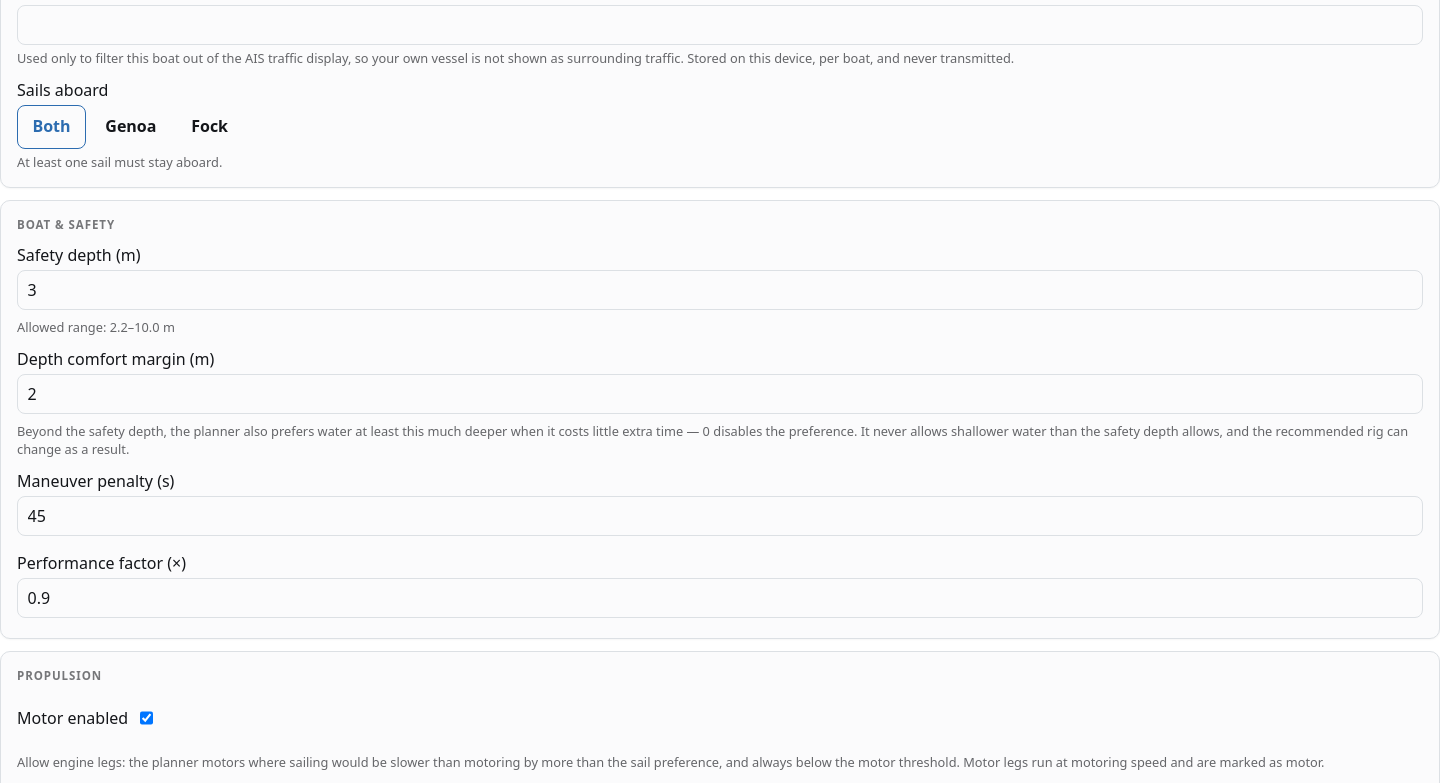
Scenario: SettingsPanel (#299 Boat tab) › Boat & safety group › commits the depth comfort margin on blur and clamps to its 0-5 bounds
(page scrolled)
Replace the text in the number field labelled "Depth comfort margin (m)" with "1.5" at (720, 394), box [17,374,1423,414]
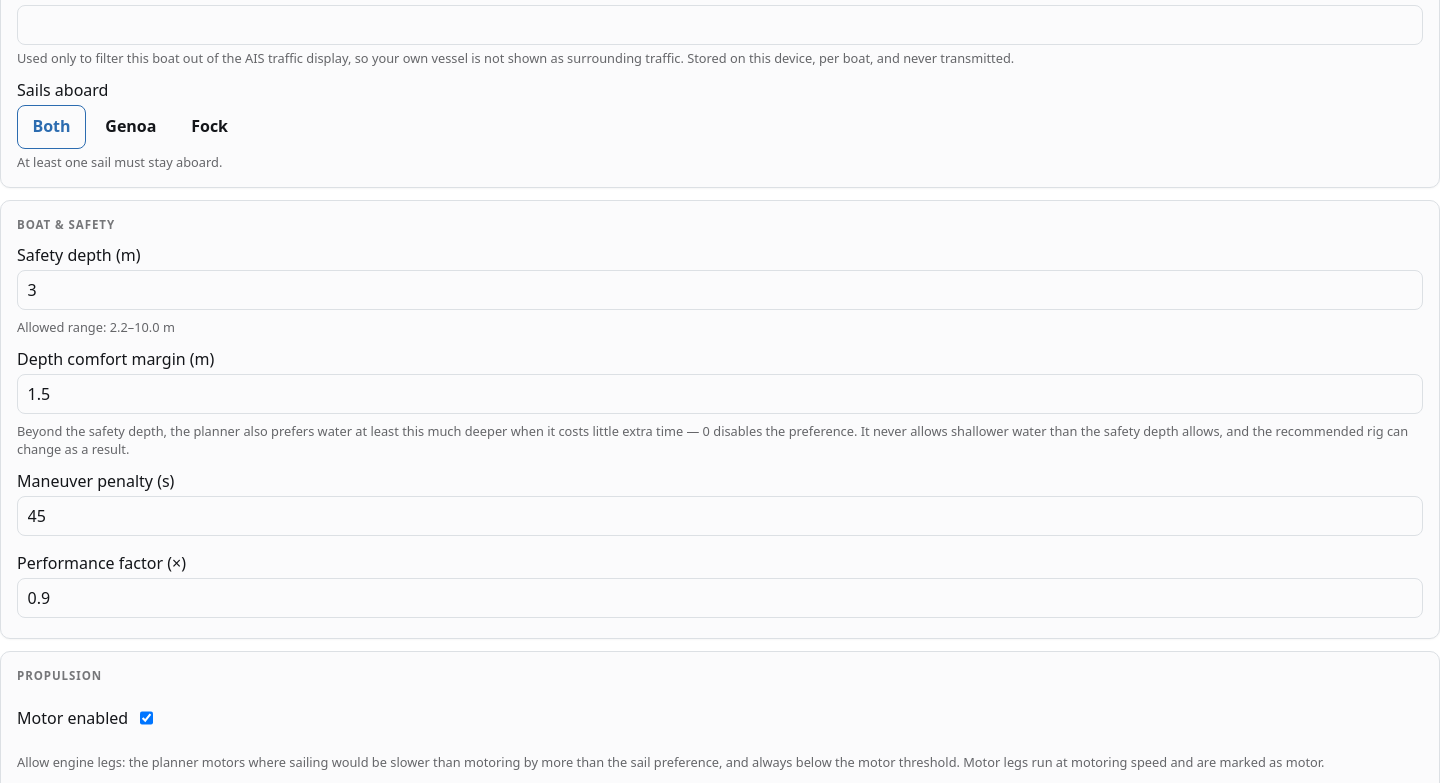
Replace the text in the number field labelled "Depth comfort margin (m)" with "99" at (720, 394), box [17,374,1423,414]
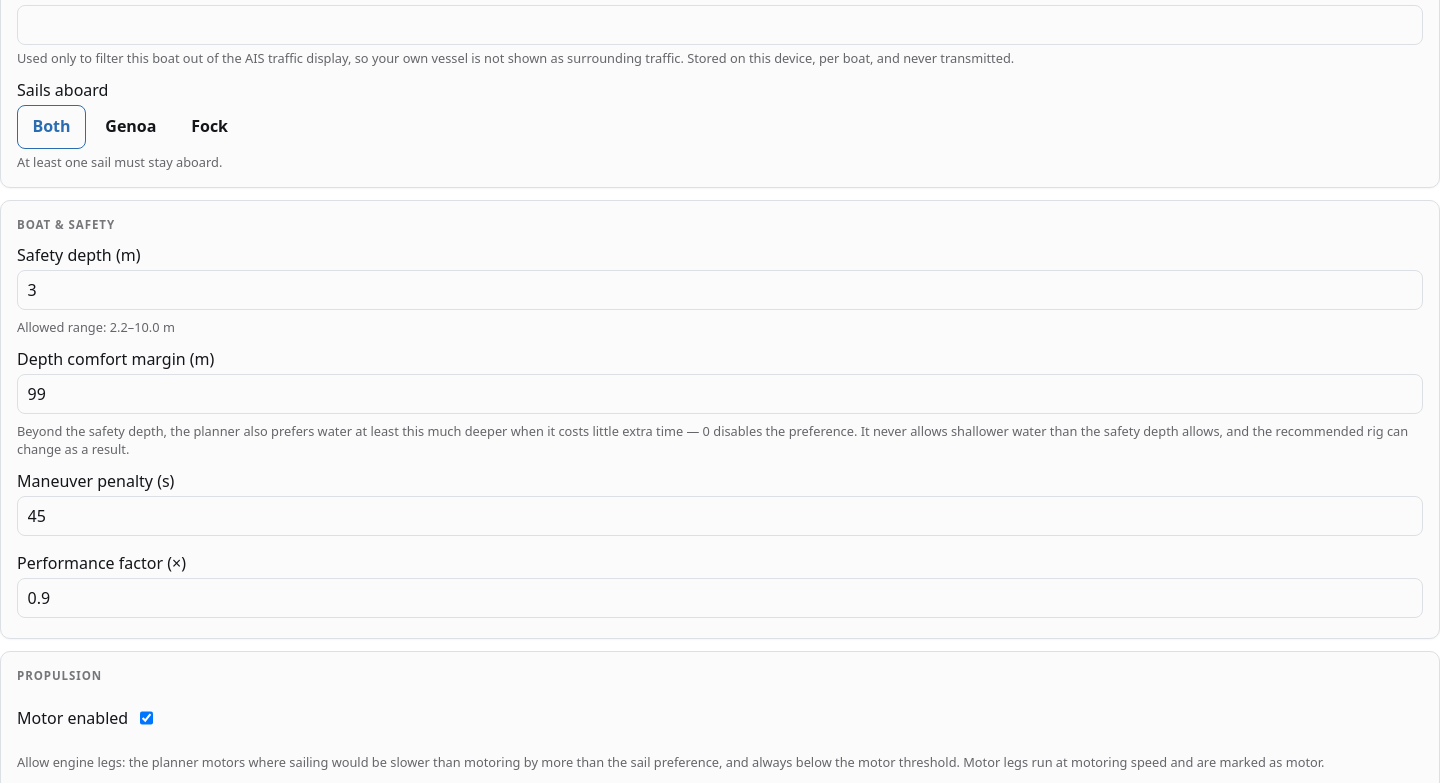
Leave the number field labelled "Depth comfort margin (m)", box [17,374,1423,414]
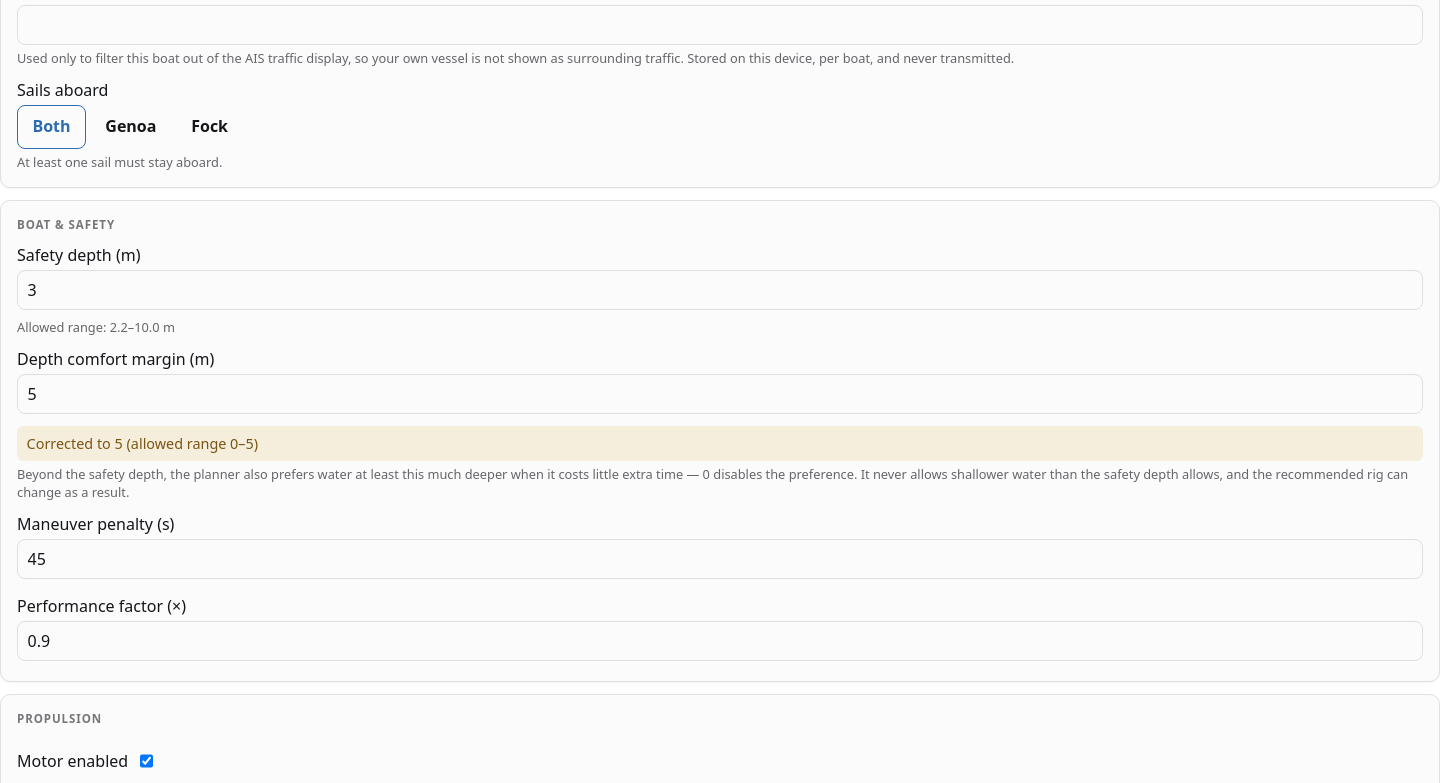
Expected: the number field labelled "Depth comfort margin (m)" holds "5", [17,374,1423,414]
